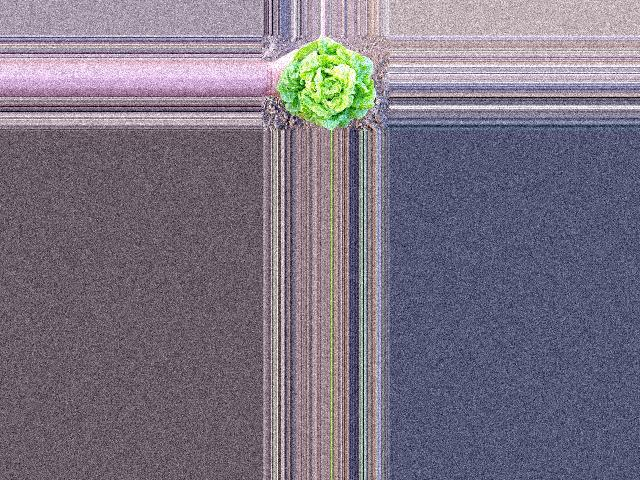lettuce: (283, 39, 377, 127)
